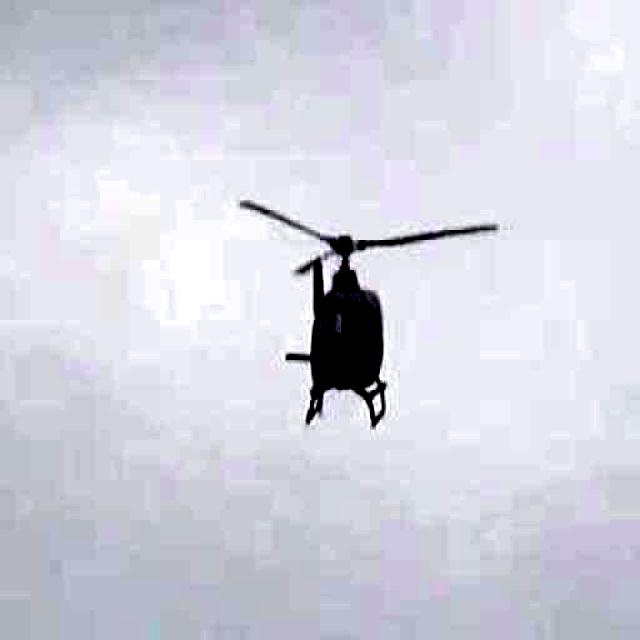drone: (224, 162, 464, 451)
